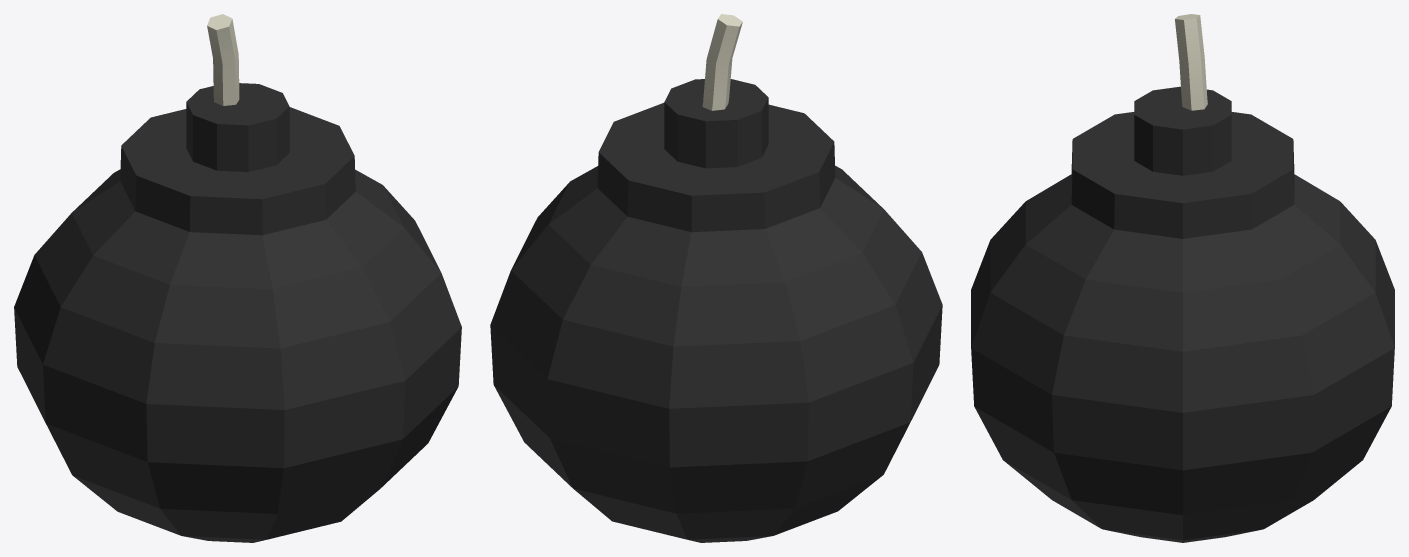
File: bomb2.fbx
The picture shows the model from 3 angles, left to right: view 1: azimuth 30°, elevation 25°; view 2: azimuth 150°, elevation 25°; view 3: azimuth 270°, elevation 25°; orthographic projection. The views are drawn at different scales.
Visible parts, largest first — view 1: pSphere1, pCylinder7; view 2: pSphere1, pCylinder7; view 3: pSphere1, pCylinder7.
Part boxes in pixels (box(x1,y1,x2,y2)): pSphere1: box(14, 83, 461, 542); pCylinder7: box(207, 14, 239, 105); pSphere1: box(490, 79, 942, 542); pCylinder7: box(702, 14, 742, 110); pSphere1: box(971, 86, 1394, 542); pCylinder7: box(1175, 14, 1207, 110).
Size of the model in its own units: 2.26 by 2.8 by 2.14.
